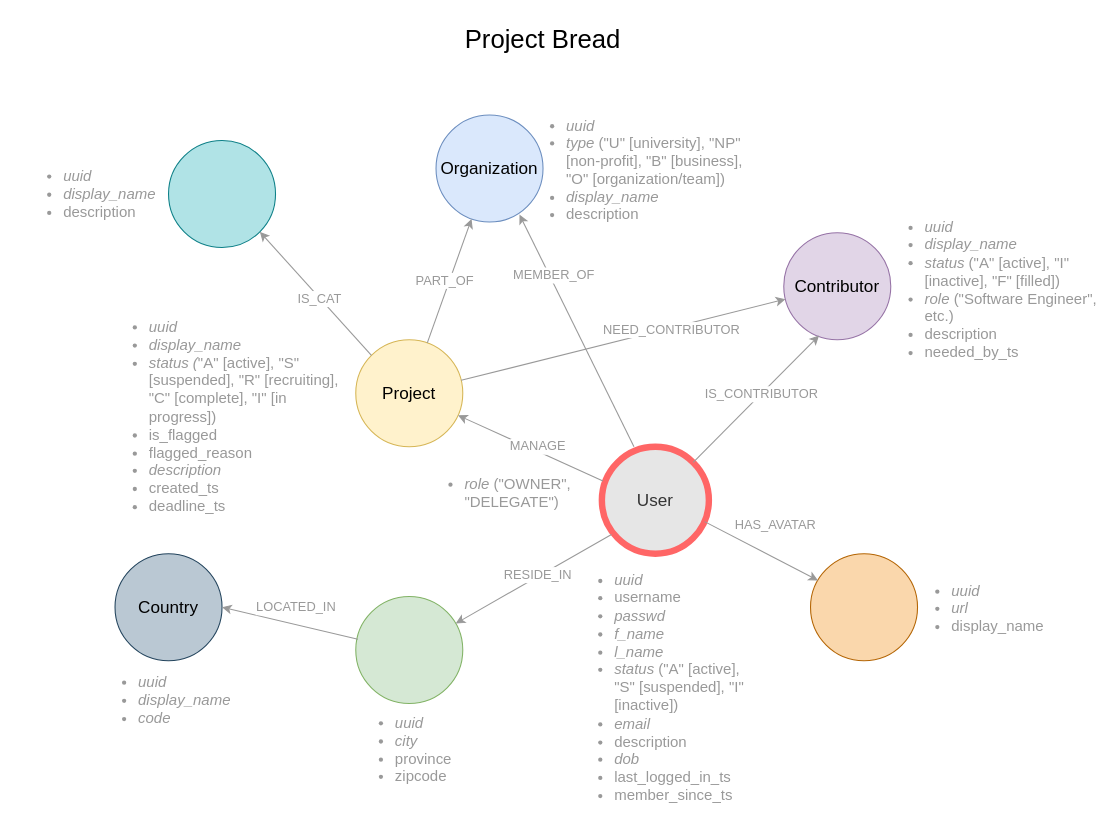
The diagram is 1117 pixels wide and 828 high, and some of its shapes have lost their labels. Here are the shapes that lost their labels. From the top down, the centre of each, then its label:
(221,193): Category
(863,607): Avatar
(409,649): Place
